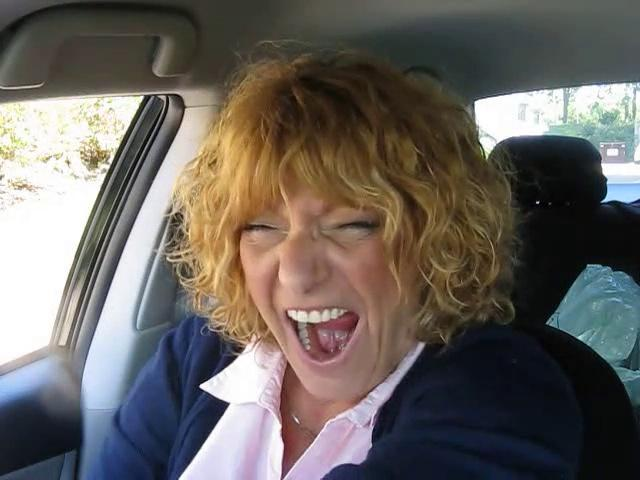close_eyeL: (230, 208, 296, 251)
close_eyeR: (305, 200, 402, 252)
yawn: (271, 290, 381, 380)
